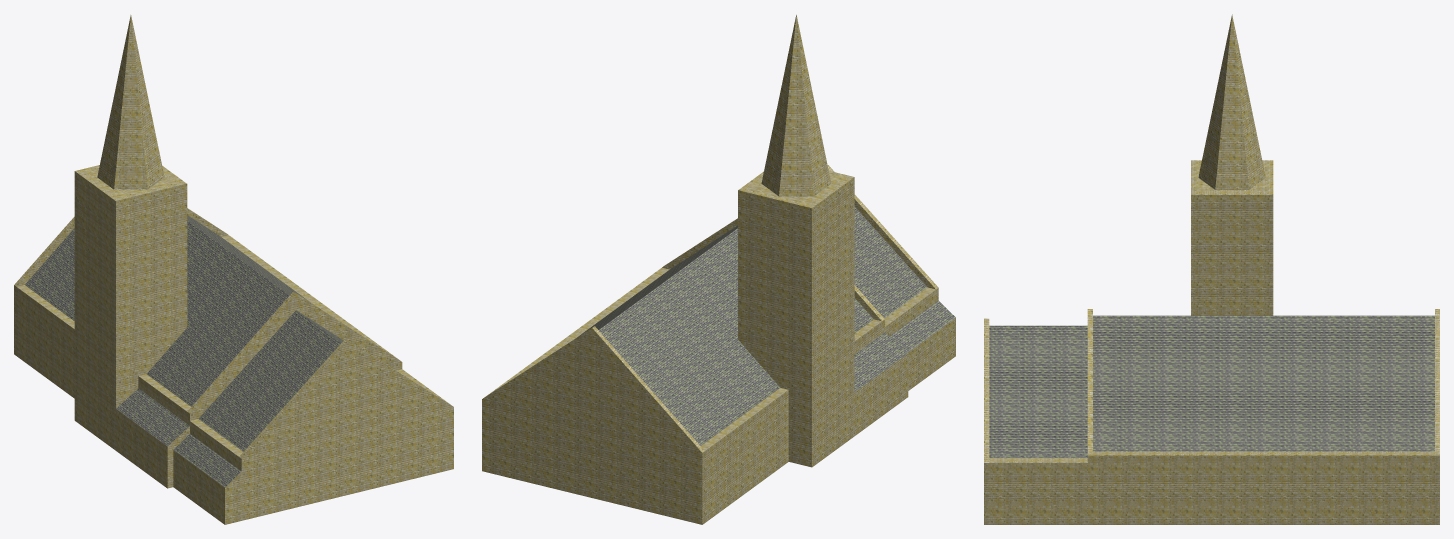
File: church_simple.glb
3 renders of one model, left to right at view 1: azimuth 30°, elevation 25°; view 2: azimuth 150°, elevation 25°; view 3: azimuth 270°, elevation 25°, orthographic. The views are drawn at different scales.
Parts seen in each view (by area): view 1: root; view 2: root; view 3: root.
Part boxes in pixels (left/top/right/bottom): root: left=14, top=15, right=453, bottom=524; root: left=482, top=14, right=955, bottom=524; root: left=984, top=14, right=1439, bottom=524.
Size of the model in its own units: 22.92 by 38.54 by 38.48.
3 materials, 2 textured.
